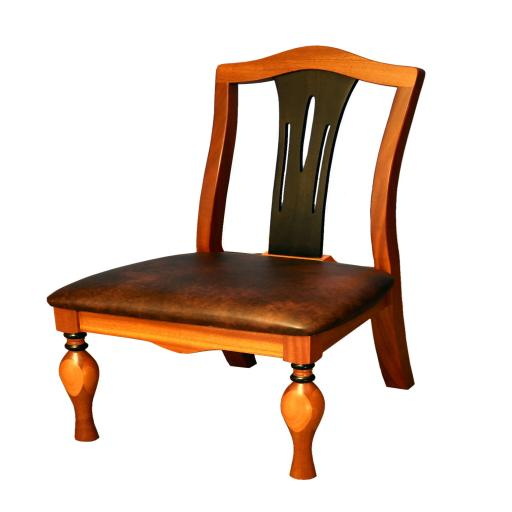chair: (40, 47, 438, 480)
